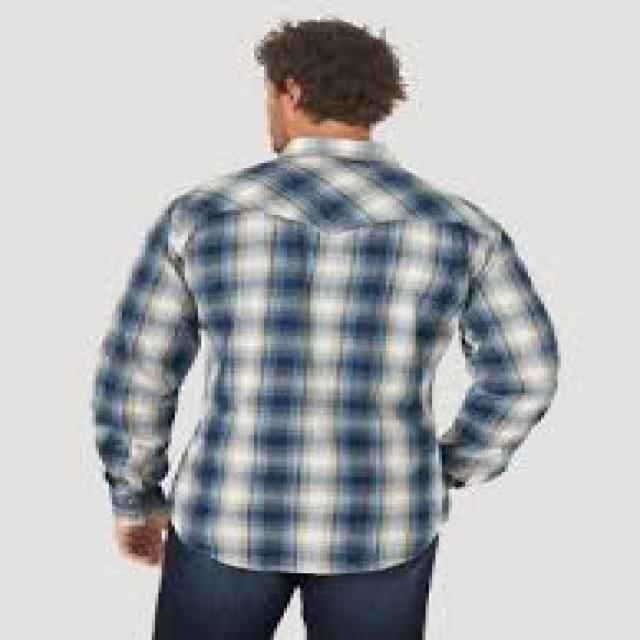plaid: (95, 133, 570, 576)
